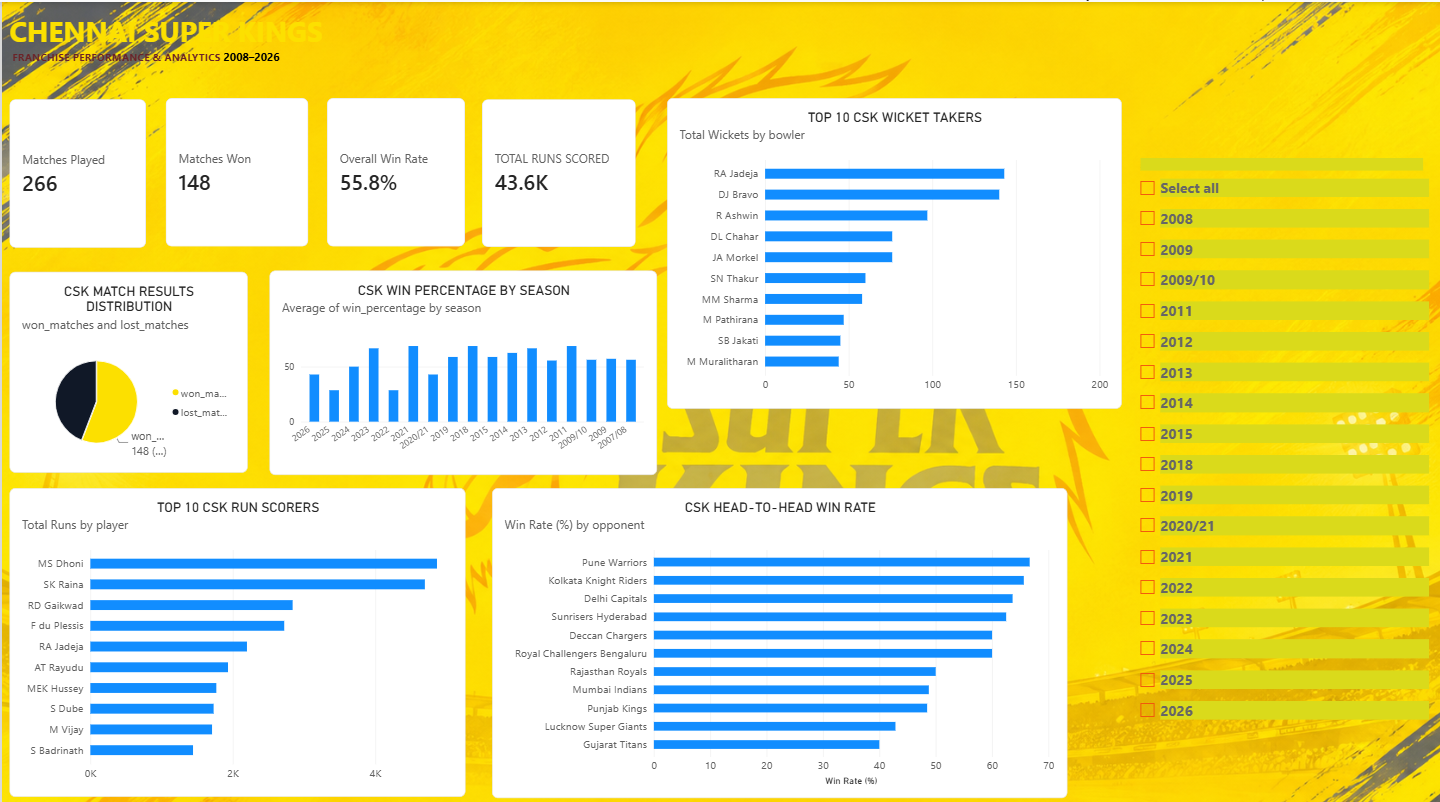

The dashboard page shown, as its layout file describes it:
{"tool":"powerbi","page":{"name":"Executive Overview","canvas":[1920,1080],"ordinal":0},"visuals":[{"type":"textbox","box":[10,0,456.7,126.7],"z":1000},{"type":"cardVisual","fields":{"Data":["Sum(csk_season_performance.matches_won)"]},"box":[218,134,190,198],"z":3000},{"type":"cardVisual","fields":{"Data":["csk_batter_consistency.CSK Overall Win Rate"]},"box":[434,134,184,198],"z":4000},{"type":"clusteredColumnChart","title":"CSK WIN PERCENTAGE BY SEASON","fields":{"Category":["csk_season_performance.season"],"Y":["Avg(csk_season_performance.win_percentage)"]},"box":[356.2,362.6,516.6,272.7],"z":5000},{"type":"clusteredBarChart","title":"TOP 10 CSK RUN SCORERS","fields":{"Category":["csk_top_run_scorers.player"],"Y":["Sum(csk_top_run_scorers.total_runs)"]},"box":[10,653.2,608,412],"z":6000},{"type":"clusteredBarChart","title":"TOP 10 CSK WICKET TAKERS","fields":{"Category":["csk_bowler_comparison.bowler"],"Y":["Sum(csk_bowler_comparison.total_wickets)"]},"box":[886.7,133.3,606,414],"z":7000},{"type":"clusteredBarChart","title":"CSK HEAD-TO-HEAD WIN RATE","fields":{"Category":["csk_opponent_analysis.opponent"],"Y":["Avg(csk_opponent_analysis.csk_win_percentage)"]},"box":[653.2,653.2,767.1,413.7],"z":8000},{"type":"slicer","fields":{"Values":["csk_batting_by_season.season"]},"box":[1510,212.5,392.5,847.5],"z":9000},{"type":"cardVisual","fields":{"Data":["Sum(csk_season_performance.matches_played)"]},"box":[9.6,134.8,182.9,198.9],"z":10001},{"type":"cardVisual","fields":{"Data":["Sum(csk_phase_by_season.total_runs)"]},"box":[640,135,205,197.5],"z":10002},{"type":"donutChart","title":"CSK MATCH RESULTS DISTRIBUTION","fields":{"Y":["Sum(csk_season_performance.matches_won)","Sum(csk_season_performance.matches_lost)"]},"box":[9.6,365.8,317.3,268.2],"z":10003}]}

Visuals, with their boxes in screenshot pixels (x1, y1, x2, y2), scaled from the page's 1920x1080 canvas onto the 1440x802 screenshot:
textbox: 8,0,350,94
cardVisual - Sum(csk_season_performance.matches_won): 164,100,306,247
cardVisual - csk_batter_consistency.CSK Overall Win Rate: 326,100,464,247
"CSK WIN PERCENTAGE BY SEASON" clusteredColumnChart: 267,269,655,472
"TOP 10 CSK RUN SCORERS" clusteredBarChart: 8,485,464,791
"TOP 10 CSK WICKET TAKERS" clusteredBarChart: 665,99,1120,406
"CSK HEAD-TO-HEAD WIN RATE" clusteredBarChart: 490,485,1065,792
slicer - csk_batting_by_season.season: 1132,158,1427,787
cardVisual - Sum(csk_season_performance.matches_played): 7,100,144,248
cardVisual - Sum(csk_phase_by_season.total_runs): 480,100,634,247
"CSK MATCH RESULTS DISTRIBUTION" donutChart: 7,272,245,471
